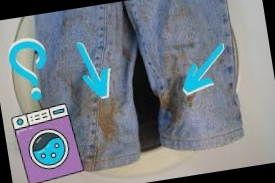earth: (95, 103, 120, 140), (160, 90, 181, 124)
